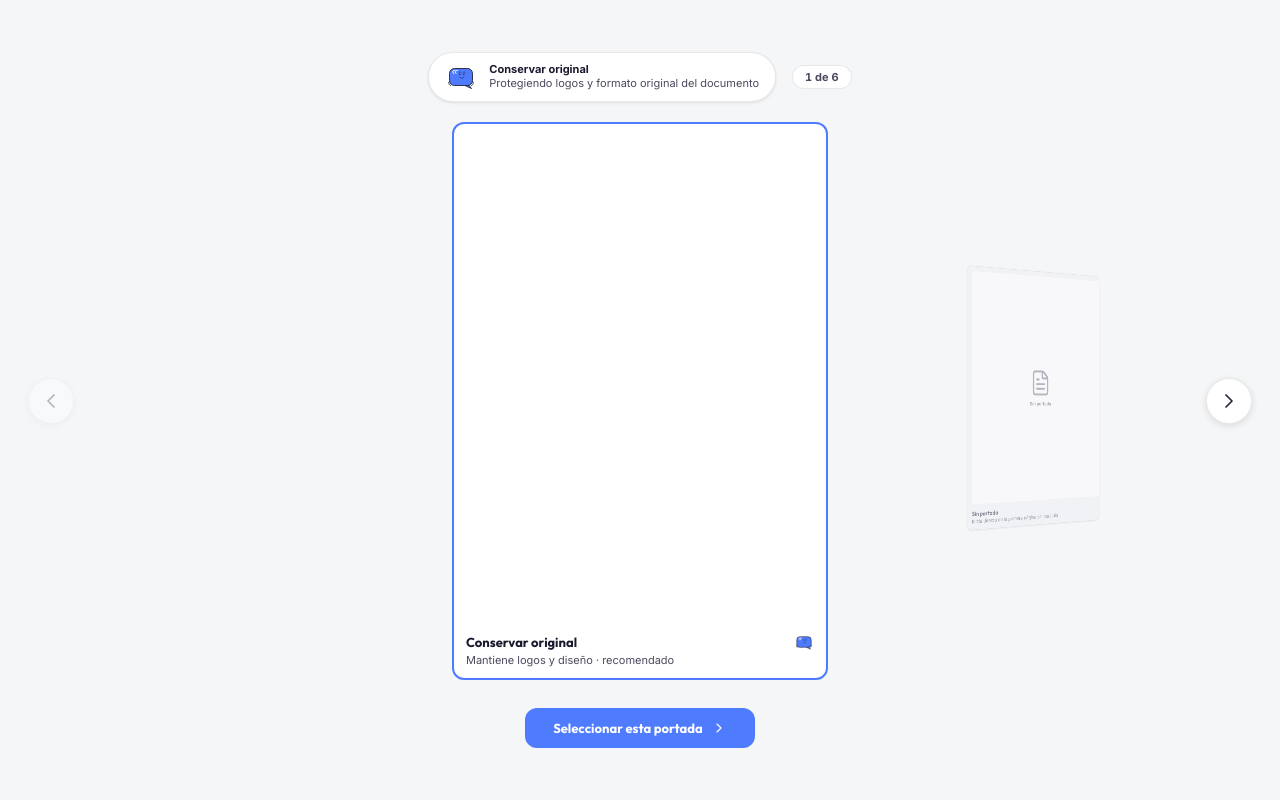
Test: T18 — el chrome usa tokens declarados › la salida del paso vive en el editor, que es donde se termina de editar
The image size is (1280, 800).
Click the button with test id "btn-seleccionar-portada-cta" at (640, 728), box [525,708,755,748]
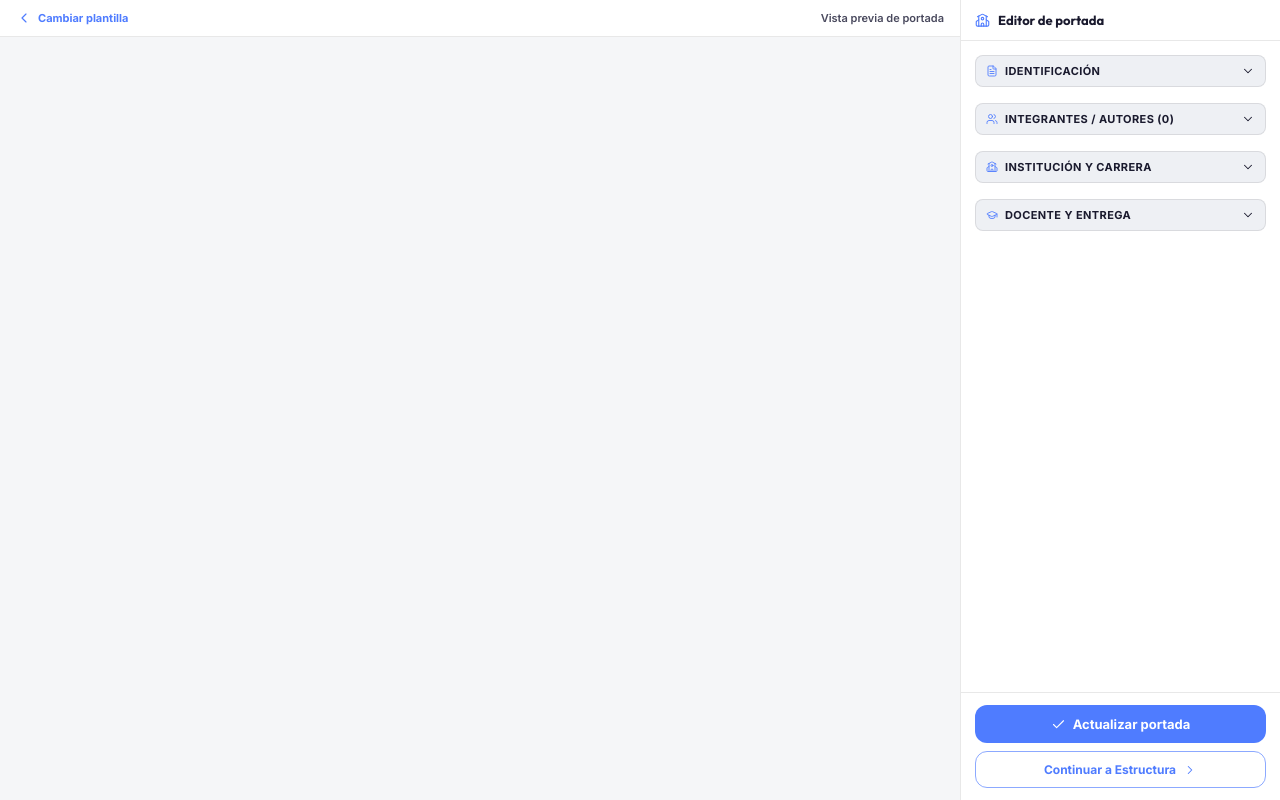
Expected: the button "Continuar a Estructura" is shown, [975,751,1266,788]
